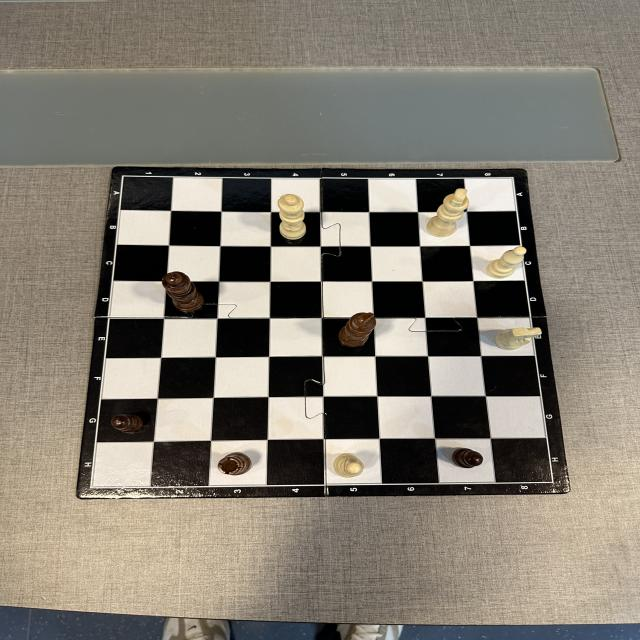Black-King: (338, 312, 378, 347)
Black-Pawn: (110, 413, 145, 434), (452, 447, 484, 469)
Black-Queen: (161, 271, 205, 313)
Black-Rook: (216, 452, 253, 475)
White-Bishop: (486, 246, 527, 279), (334, 453, 364, 479)
White-King: (426, 188, 470, 238)
White-Knight: (496, 327, 542, 351)
White-Queen: (277, 193, 307, 240)
